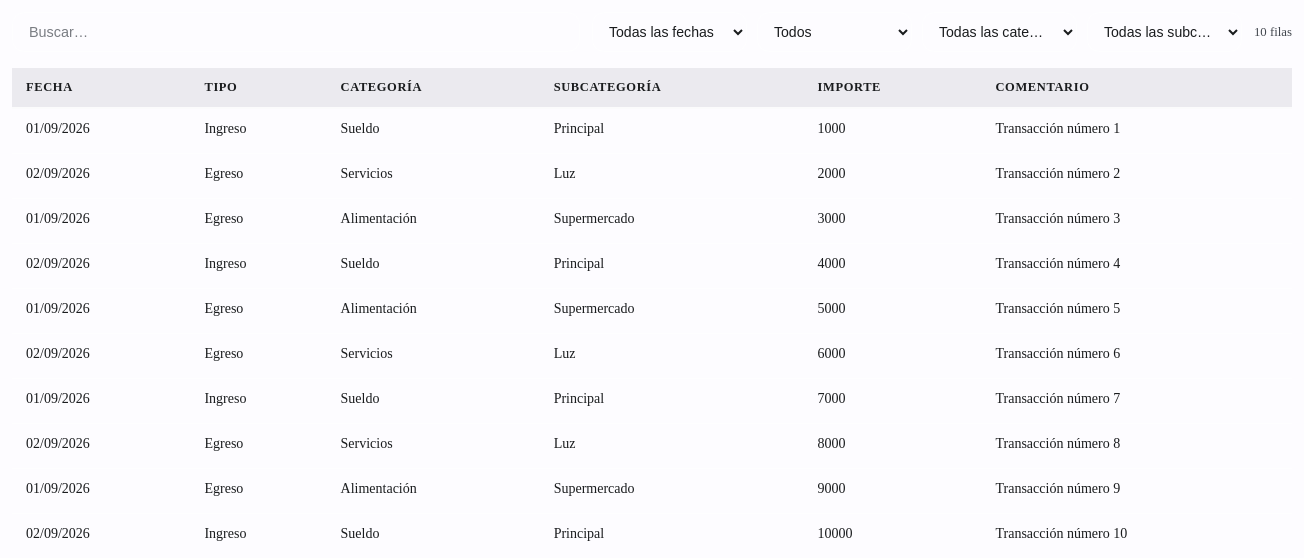
it: EditableTable Component (Tiers 1-4: Movimientos Table Contracts) › Column Filtering (Fecha, Tipo, Categoría, Subcategoría) › filters rows in real-time by Tipo column
Note: Filter by Ingreso
Select "Ingreso" in the dropdown named "Filtrar por Tipo". click: {"x": 834, "y": 32}
box: [757,12,912,52]
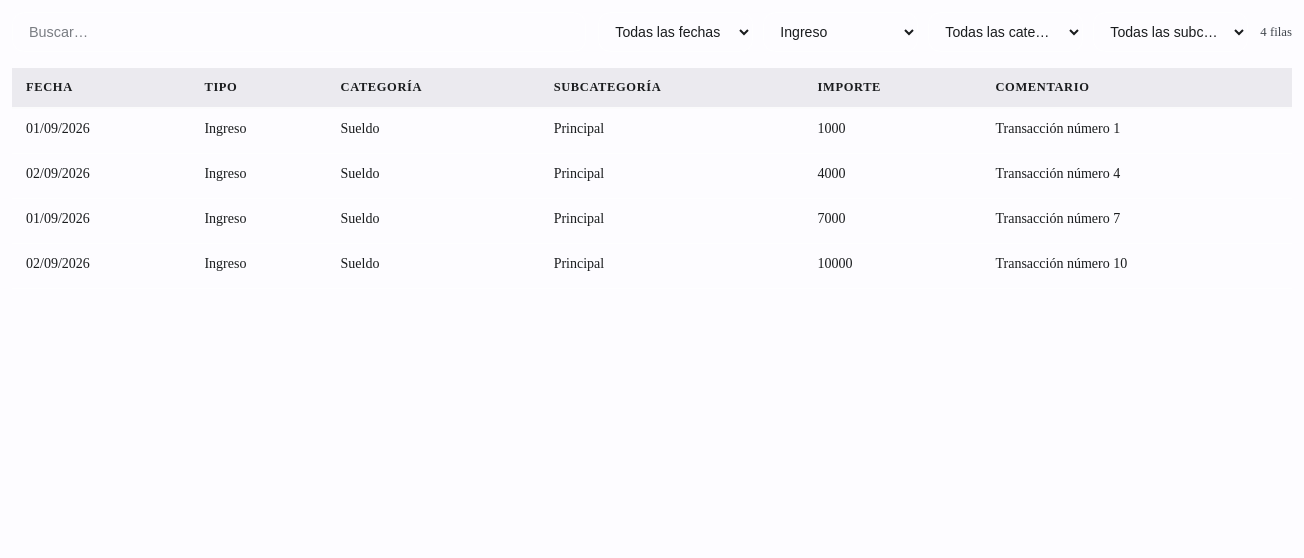
expect the 2nd row shows "Ingreso": met, box [204,121,246,136]
expect the text "Egreso" is gone: met
